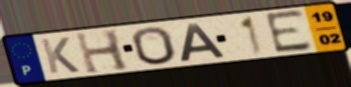1: (239, 13, 265, 57)
A: (178, 22, 227, 63)
E: (262, 8, 315, 56)
H: (72, 28, 132, 76)
K: (38, 36, 82, 75)
O: (130, 26, 179, 67)
